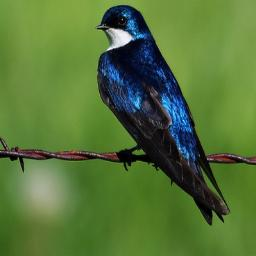Swallow: (94, 4, 232, 226)
